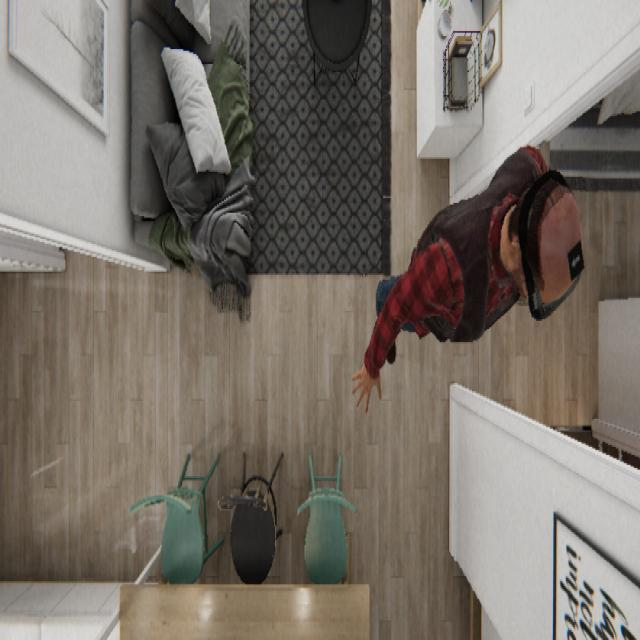Human: (350, 143, 585, 414)
UnityLogo: (517, 165, 585, 321), (566, 236, 584, 282)
